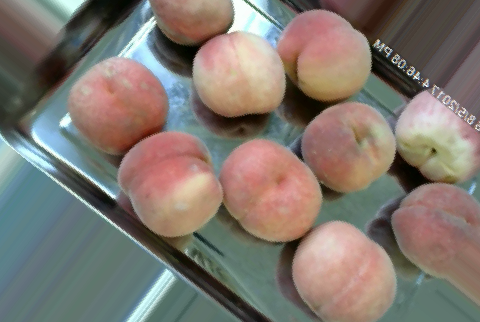Peach: (117, 130, 221, 237), (290, 219, 398, 322), (222, 139, 326, 241), (70, 56, 169, 153), (299, 99, 395, 193), (387, 183, 479, 278), (192, 29, 286, 120), (280, 9, 371, 100), (392, 91, 477, 185), (144, 0, 235, 44)
